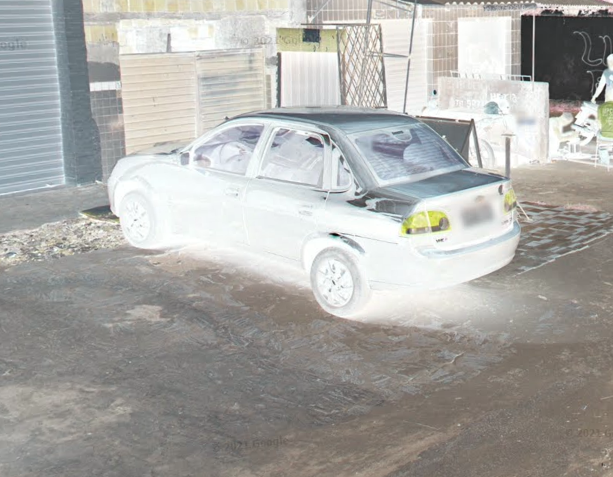car: (104, 106, 522, 318)
